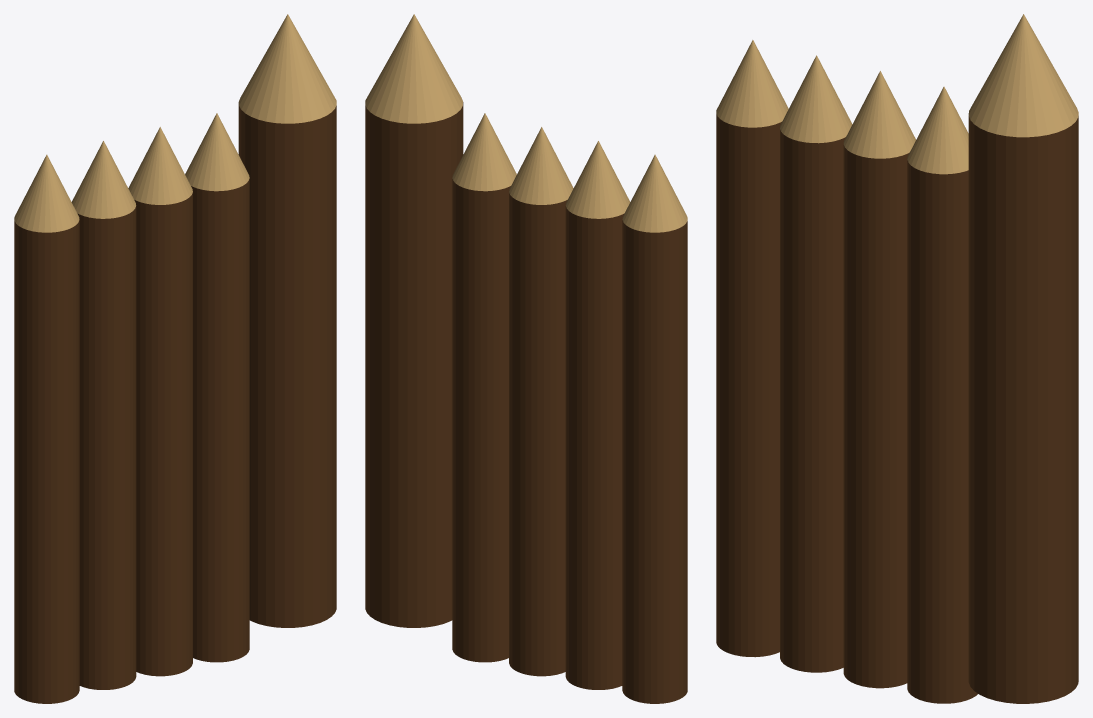
File: lvl1_1.glb
The picture shows the model from 3 angles, left to right: view 1: azimuth 30°, elevation 25°; view 2: azimuth 150°, elevation 25°; view 3: azimuth 330°, elevation 25°; orthographic projection. The views are drawn at different scales.
Parts seen in each view (by area): view 1: Cylinder.025; view 2: Cylinder.025; view 3: Cylinder.025.
Part boxes in pixels (<box>): Cylinder.025: <box>14,14,336,703</box>; Cylinder.025: <box>365,14,687,703</box>; Cylinder.025: <box>716,14,1078,703</box>.
Bounding box in the file's own units: 0.55 × 1.04 × 0.15.
